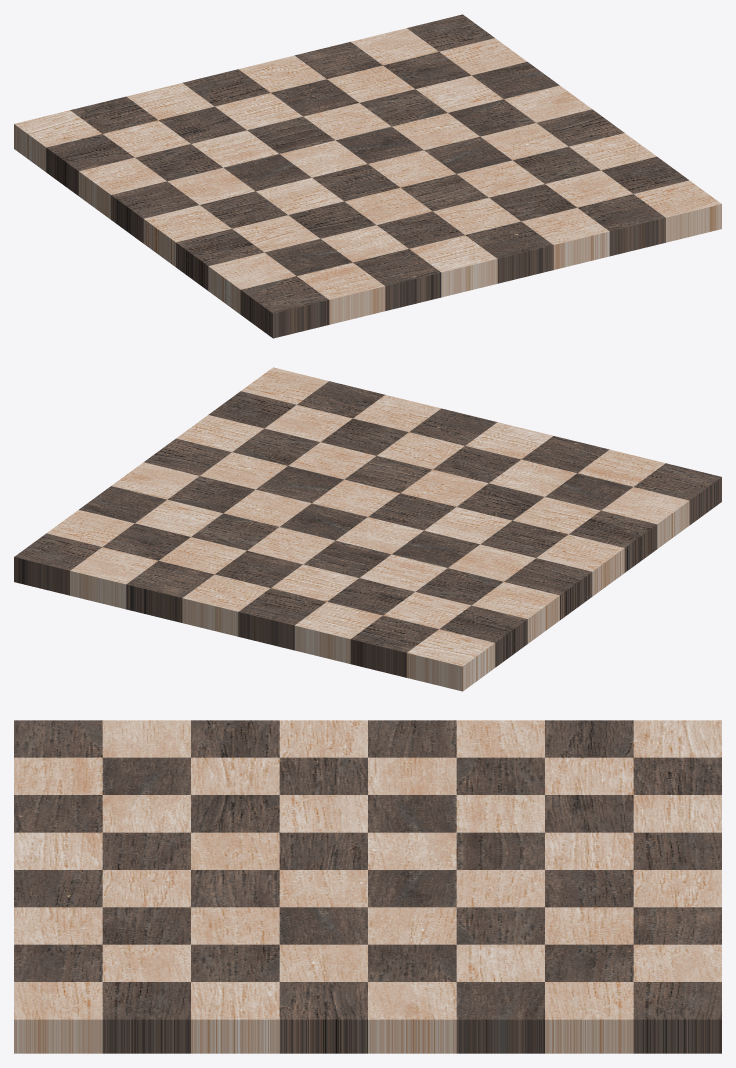
Rendered from チェス盤マス分割.fbx.
The picture shows the model from 3 angles, top to bottom: view 1: azimuth 30°, elevation 25°; view 2: azimuth 150°, elevation 25°; view 3: azimuth 270°, elevation 25°; orthographic projection. The views are drawn at different scales.
Parts seen in each view (by area): view 1: a1, d1, f1, g1, c1, e1, b1, h1, a6, a5, a2, a7 (+52 smaller); view 2: a8, d8, f8, e8, g8, c8, b8, h8, a3, a4, a2, a7 (+52 smaller); view 3: h1, h2, h3, h4, h5, h6, h7, h8, a1, a2, a3, a4 (+52 smaller).
Boxes of the visible parts, x1=… form: a1: x1=240, y1=276, x2=329, y2=338; d1: x1=409, y1=235, x2=497, y2=297; f1: x1=521, y1=208, x2=609, y2=269; g1: x1=577, y1=194, x2=665, y2=256; c1: x1=353, y1=249, x2=441, y2=310; e1: x1=465, y1=221, x2=553, y2=283; b1: x1=297, y1=262, x2=385, y2=324; h1: x1=634, y1=180, x2=721, y2=242; a6: x1=78, y1=157, x2=166, y2=219; a5: x1=111, y1=181, x2=198, y2=243; a2: x1=208, y1=252, x2=296, y2=314; a7: x1=46, y1=134, x2=134, y2=195; a8: x1=406, y1=629, x2=495, y2=691; d8: x1=238, y1=588, x2=326, y2=650; f8: x1=126, y1=561, x2=214, y2=622; e8: x1=182, y1=574, x2=270, y2=636; g8: x1=70, y1=547, x2=158, y2=609; c8: x1=294, y1=602, x2=382, y2=663; b8: x1=350, y1=615, x2=438, y2=677; h8: x1=14, y1=533, x2=101, y2=595; a3: x1=569, y1=510, x2=657, y2=572; a4: x1=537, y1=534, x2=624, y2=596; a2: x1=601, y1=487, x2=689, y2=548; a7: x1=439, y1=605, x2=527, y2=667; h1: x1=14, y1=982, x2=102, y2=1053; h2: x1=102, y1=982, x2=190, y2=1053; h3: x1=191, y1=982, x2=279, y2=1053; h4: x1=279, y1=982, x2=367, y2=1053; h5: x1=368, y1=982, x2=456, y2=1053; h6: x1=456, y1=982, x2=544, y2=1053; h7: x1=545, y1=982, x2=633, y2=1053; h8: x1=633, y1=982, x2=721, y2=1053; a1: x1=14, y1=720, x2=102, y2=757; a2: x1=102, y1=720, x2=190, y2=757; a3: x1=191, y1=720, x2=279, y2=757; a4: x1=279, y1=720, x2=367, y2=757.
Size of the model in its own units: 20 by 1.06 by 20.
